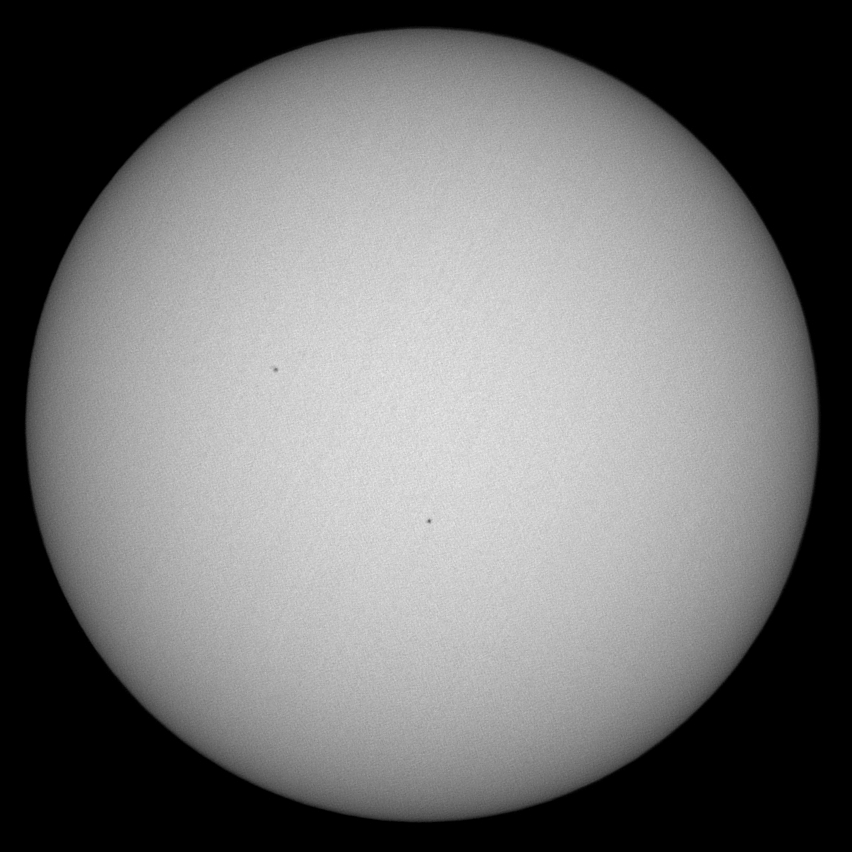sunspot: (263, 359, 285, 376), (419, 515, 439, 531)
